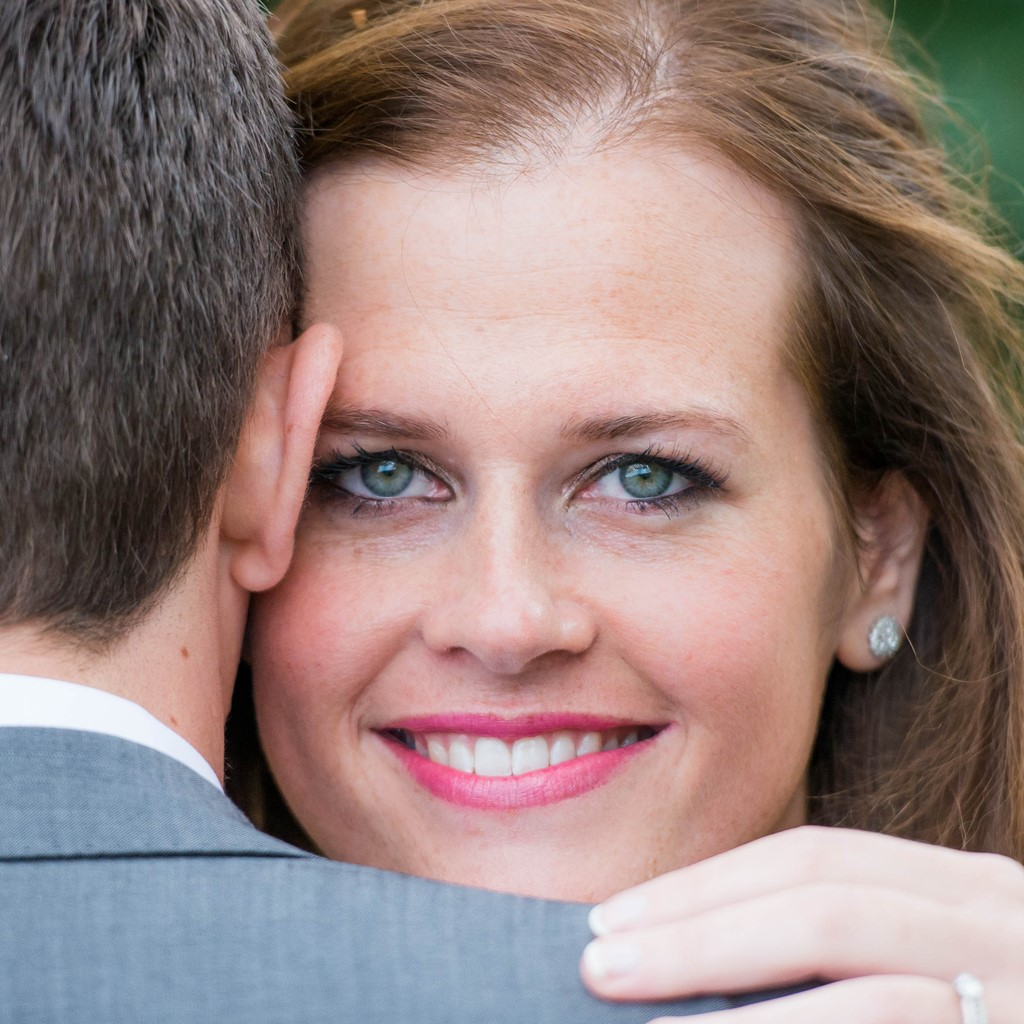sin_mascara: (248, 131, 905, 917)
